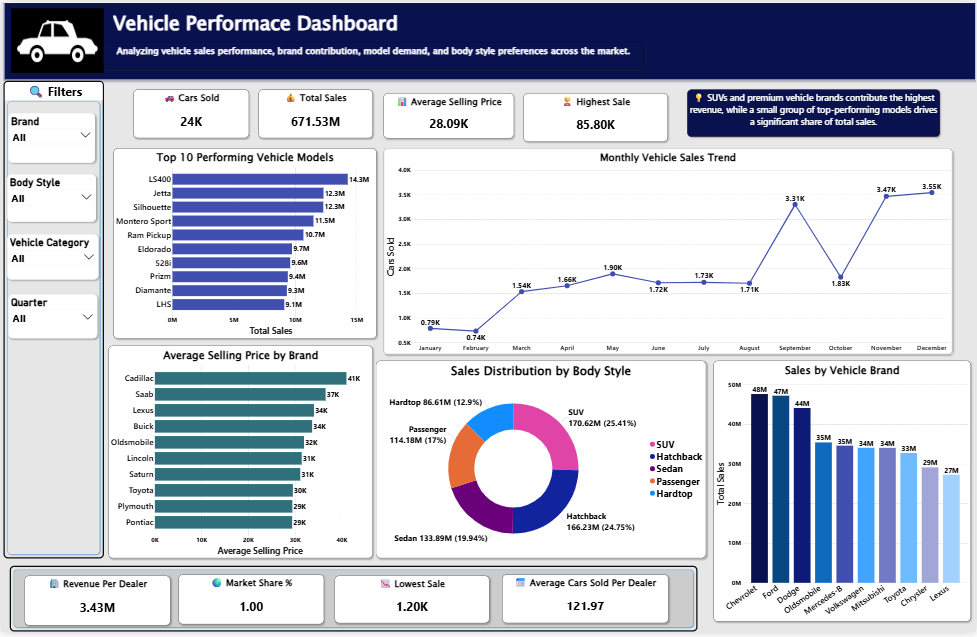

The dashboard page shown, as its layout file describes it:
{"tool":"powerbi","page":{"name":"Vehicle Performance Dashboard","canvas":[6500,4200],"ordinal":2},"visuals":[{"type":"shape","box":[61.5,3761.5,4584.6,438.5],"z":0},{"type":"textbox","box":[15.4,0,6484.6,523.1],"z":1000},{"type":"image","box":[62.5,43.8,618.8,431.2],"z":2000},{"type":"textbox","box":[743.8,43.8,1987.5,268.8],"z":3000},{"type":"textbox","box":[681.2,262.5,3600,175],"z":4000},{"type":"cardVisual","title":"🚗 Cars Sold","fields":{"Data":["Measures_Table.Cars Sold"]},"box":[884.6,584.6,769.2,323.1],"z":5000},{"type":"cardVisual","title":"💰 Total Sales","fields":{"Data":["Measures_Table.Total Sales"]},"box":[1715.4,584.6,761.5,323.1],"z":6000},{"type":"cardVisual","title":"📊 Average Selling Price","fields":{"Data":["Measures_Table.Average Selling Price"]},"box":[2546.2,607.7,869.2,300],"z":7000},{"type":"cardVisual","title":"🏆 Highest Sale","fields":{"Data":["Measures_Table.Highest Sale"]},"box":[3484.6,607.7,961.5,323.1],"z":8000},{"type":"cardVisual","title":"🏢 Revenue Per Dealer","fields":{"Data":["Measures_Table.Revenue Per Dealer"]},"box":[161.5,3823.1,969.2,330.8],"z":9000},{"type":"cardVisual","title":"🌍 Market Share %","fields":{"Data":["Measures_Table.Market Share %"]},"box":[1184.6,3815.4,969.2,330.8],"z":10000},{"type":"cardVisual","title":"📉 Lowest Sale","fields":{"Data":["Measures_Table.Lowest Sale"]},"box":[2223.1,3823.1,1030.8,315.4],"z":11000},{"type":"cardVisual","title":"📅 Average Cars Sold Per Dealer","fields":{"Data":["Measures_Table.Average Cars Sold Per Dealer"]},"box":[3338.5,3815.4,1107.7,323.1],"z":12000},{"type":"shape","title":"🔍 Filters","box":[15.4,523.1,669.2,3184.6],"z":13000},{"type":"slicer","title":"Brand","fields":{"Values":["Dim_Vehicle.Company"]},"box":[53.8,738.5,576.9,330.8],"z":14000},{"type":"slicer","title":"Body Style","fields":{"Values":["Dim_Vehicle.Body Style"]},"box":[38.5,1146.2,592.3,315.4],"z":15000},{"type":"slicer","title":"Vehicle Category","fields":{"Values":["Dim_Vehicle.Vehicle Category"]},"box":[38.5,1553.8,607.7,300],"z":16000},{"type":"slicer","title":"Quarter","fields":{"Values":["Dim_Date.Quarter"]},"box":[46.2,1953.8,592.3,292.3],"z":17000},{"type":"clusteredBarChart","title":"Top 10 Performing Vehicle Models","fields":{"Category":["Dim_Vehicle.Model"],"Y":["Measures_Table.Total Sales"]},"box":[746.2,976.9,1753.8,1269.2],"z":18000},{"type":"donutChart","title":"Sales Distribution by Body Style","fields":{"Category":["Dim_Vehicle.Body Style"],"Y":["Measures_Table.Total Sales"]},"box":[2500,2392.3,2200,1315.4],"z":19000},{"type":"clusteredColumnChart","title":"Sales by Vehicle Brand","fields":{"Category":["Dim_Vehicle.Company"],"Y":["Measures_Table.Total Sales"]},"box":[4753.8,2392.3,1715.4,1738.5],"z":20000},{"type":"barChart","title":"Average Selling Price by Brand","fields":{"Y":["Measures_Table.Average Selling Price"],"Category":["Dim_Vehicle.Company"]},"box":[715.4,2292.3,1761.5,1415.4],"z":21000},{"type":"lineChart","title":"Monthly Vehicle Sales Trend","fields":{"Category":["Dim_Date.Month Name"],"Y":["Measures_Table.Cars Sold"]},"box":[2546.2,976.9,3792.3,1376.9],"z":22000},{"type":"textbox","box":[4576.9,584.6,1684.6,315.4],"z":23000}]}

Visuals, with their boxes in screenshot pixels (x1, y1, x2, y2), scaled from the page's 6500x4200 canvas onto the 977x637 screenshot:
shape: <box>9,570,698,636</box>
textbox: <box>2,0,976,79</box>
image: <box>9,7,102,72</box>
textbox: <box>112,7,411,47</box>
textbox: <box>102,40,643,66</box>
"🚗 Cars Sold" cardVisual: <box>133,89,249,138</box>
"💰 Total Sales" cardVisual: <box>258,89,372,138</box>
"📊 Average Selling Price" cardVisual: <box>383,92,513,138</box>
"🏆 Highest Sale" cardVisual: <box>524,92,668,141</box>
"🏢 Revenue Per Dealer" cardVisual: <box>24,580,170,630</box>
"🌍 Market Share %" cardVisual: <box>178,579,324,629</box>
"📉 Lowest Sale" cardVisual: <box>334,580,489,628</box>
"📅 Average Cars Sold Per Dealer" cardVisual: <box>502,579,668,628</box>
"🔍 Filters" shape: <box>2,79,103,562</box>
"Brand" slicer: <box>8,112,95,162</box>
"Body Style" slicer: <box>6,174,95,222</box>
"Vehicle Category" slicer: <box>6,236,97,281</box>
"Quarter" slicer: <box>7,296,96,341</box>
"Top 10 Performing Vehicle Models" clusteredBarChart: <box>112,148,376,341</box>
"Sales Distribution by Body Style" donutChart: <box>376,363,706,562</box>
"Sales by Vehicle Brand" clusteredColumnChart: <box>715,363,972,627</box>
"Average Selling Price by Brand" barChart: <box>108,348,372,562</box>
"Monthly Vehicle Sales Trend" lineChart: <box>383,148,953,357</box>
textbox: <box>688,89,941,136</box>
